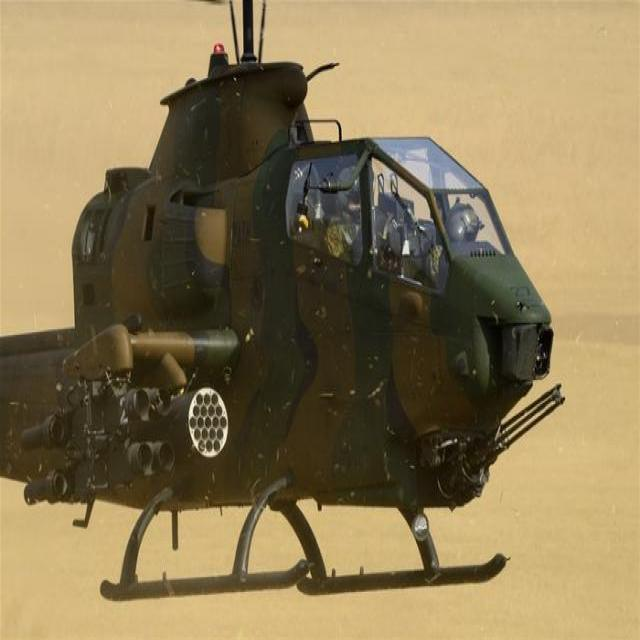MIL_HELO: (0, 8, 547, 603)
